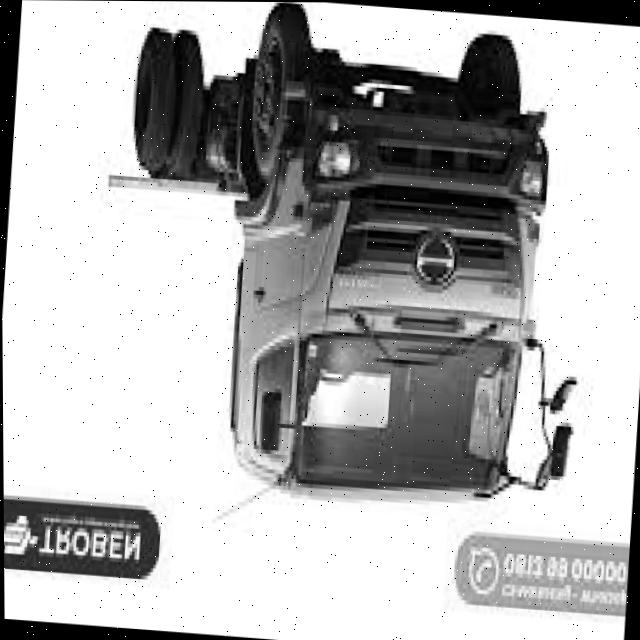truck: (206, 62, 607, 527)
